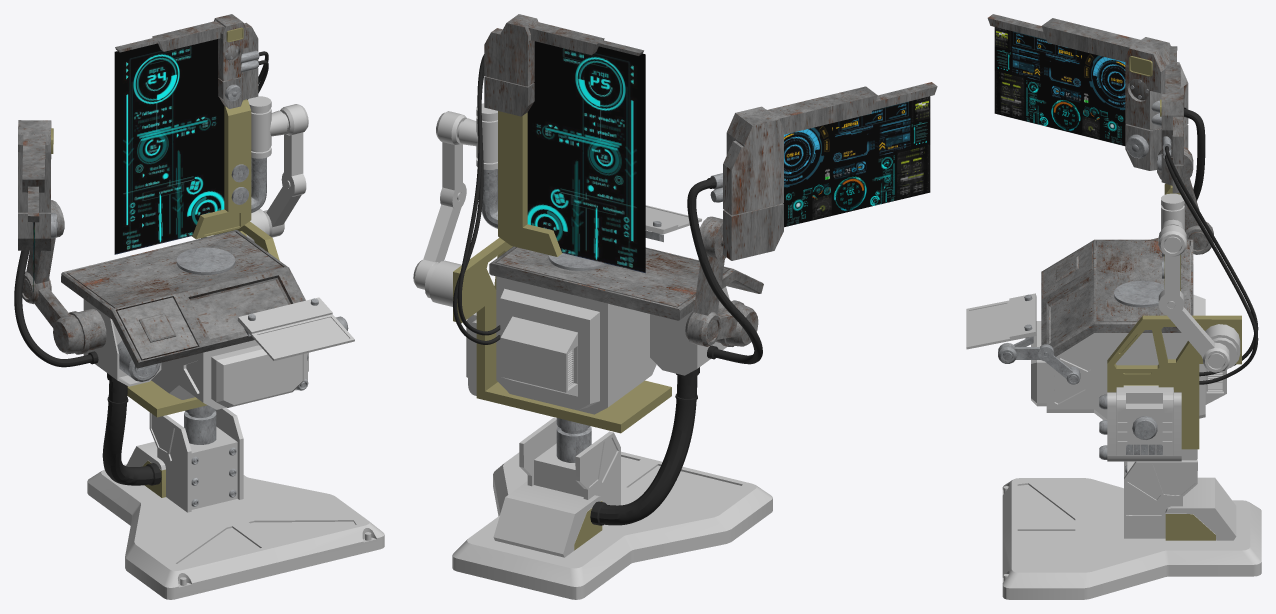
The picture shows the model from 3 angles, left to right: view 1: azimuth 30°, elevation 25°; view 2: azimuth 150°, elevation 25°; view 3: azimuth 270°, elevation 25°; orthographic projection. The views are drawn at different scales.
Parts seen in each view (by area): view 1: PC_0; view 2: PC_0; view 3: PC_0.
Boxes of the visible parts, x1=… form: PC_0: x1=14, y1=14, x2=384, y2=599; PC_0: x1=413, y1=14, x2=937, y2=599; PC_0: x1=966, y1=14, x2=1261, y2=599.
Bounding box in the file's own units: 9.05 × 11.34 × 6.49.
